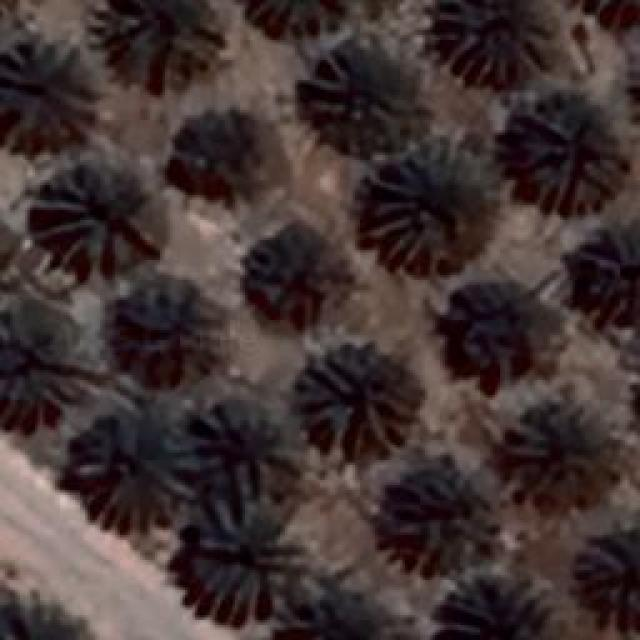PalmTree: (70, 400, 200, 535), (190, 492, 312, 626), (30, 158, 168, 272), (360, 142, 478, 270), (298, 348, 420, 460), (510, 90, 622, 210), (498, 400, 612, 510), (390, 468, 502, 570), (244, 217, 342, 325), (192, 400, 300, 495), (435, 0, 555, 85), (441, 292, 554, 376), (0, 298, 80, 416), (105, 0, 215, 80), (128, 294, 222, 386), (435, 568, 553, 640), (0, 41, 82, 138), (308, 42, 402, 122), (565, 228, 640, 328), (569, 534, 640, 636), (178, 117, 280, 185), (280, 588, 398, 640), (248, 0, 361, 44), (0, 590, 89, 639), (572, 0, 640, 31), (620, 35, 640, 125)
